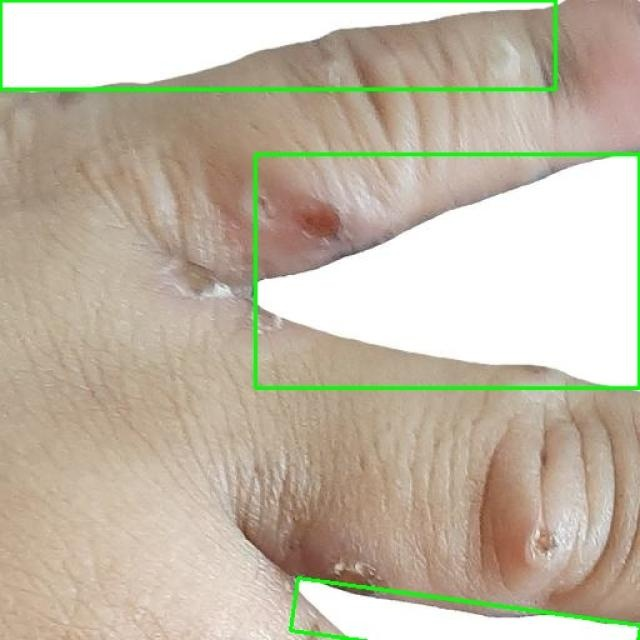Scabies: (255, 154, 639, 389), (0, 0, 555, 89), (291, 578, 640, 640)
